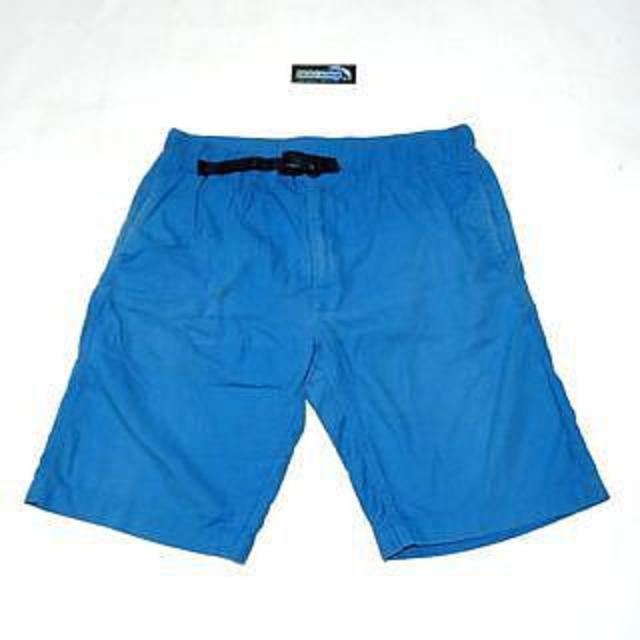SHORT: (9, 118, 640, 573)
